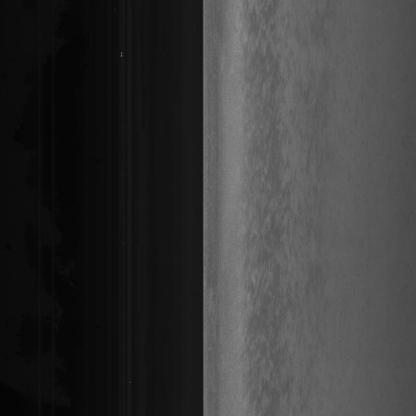silk_spot: (243, 76, 294, 308)
